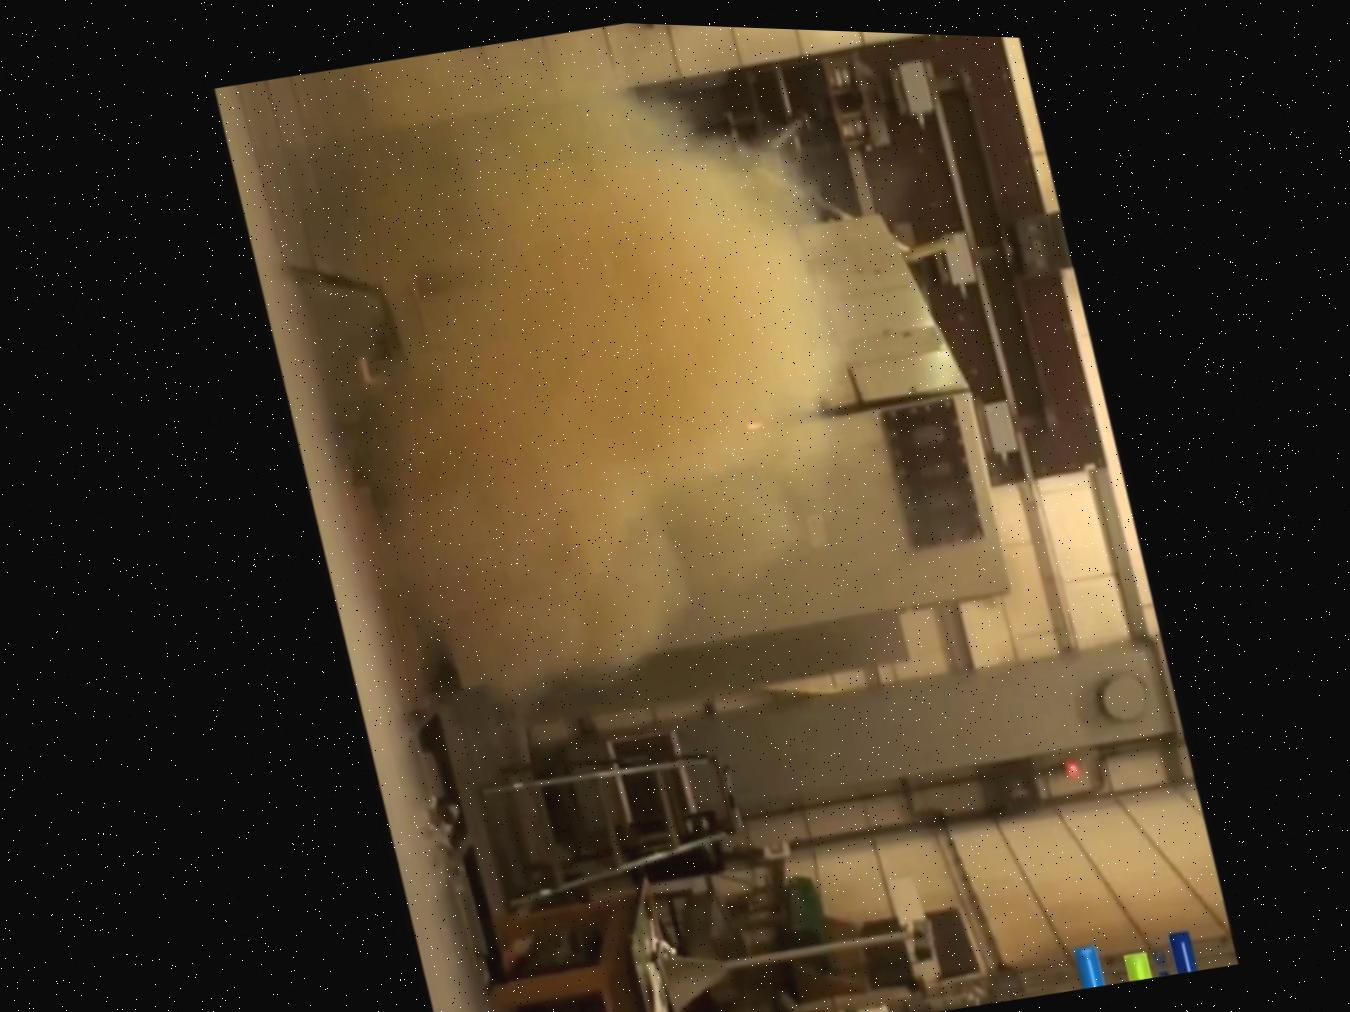smoke: (261, 101, 998, 699)
